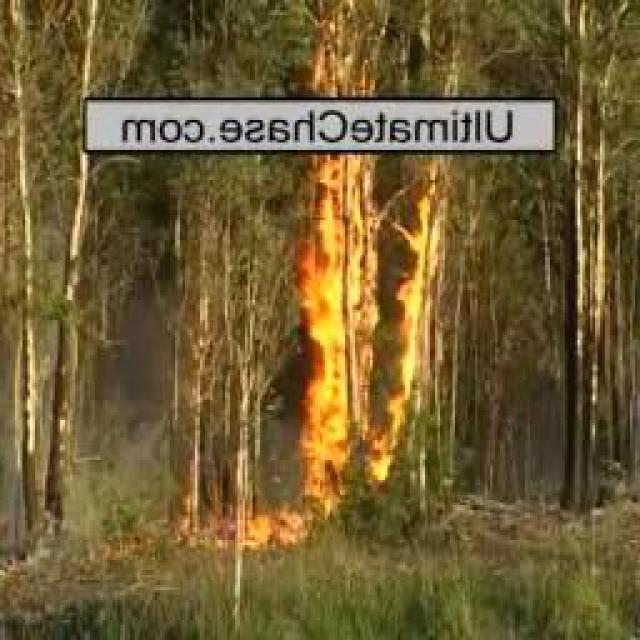Fire: (286, 154, 450, 495), (204, 509, 326, 569), (301, 13, 385, 99)
